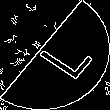L_NW: (22, 27, 88, 83)
